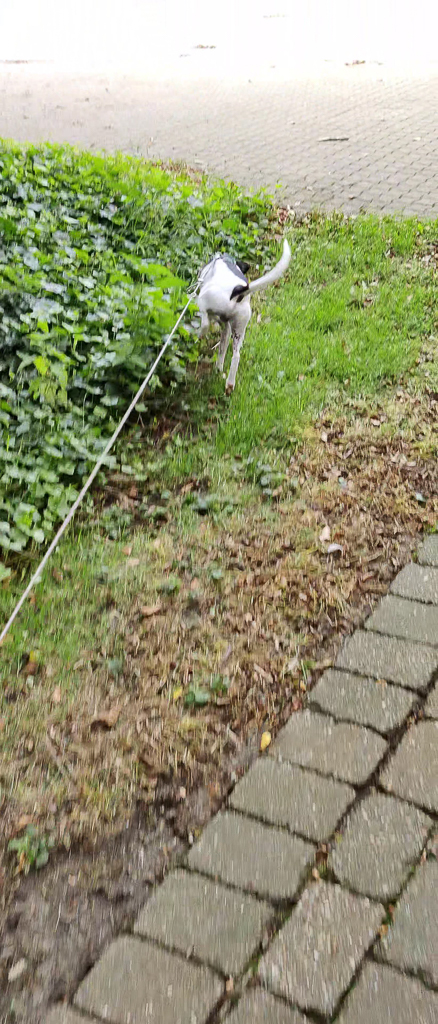Dog: (175, 221, 310, 412)
